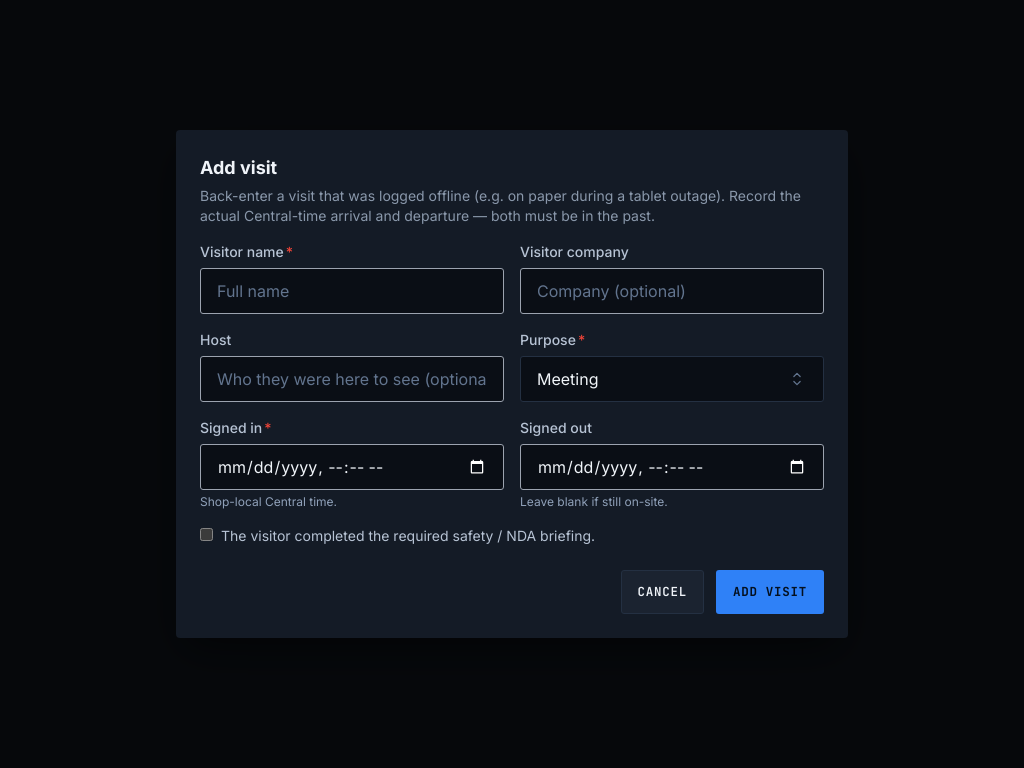
Test: VisitorManualEntryModal validation › blocks a future sign-in time client-side
In the field with placeholder "Full name": (352, 291) [200, 268, 504, 314], type "Future Person"
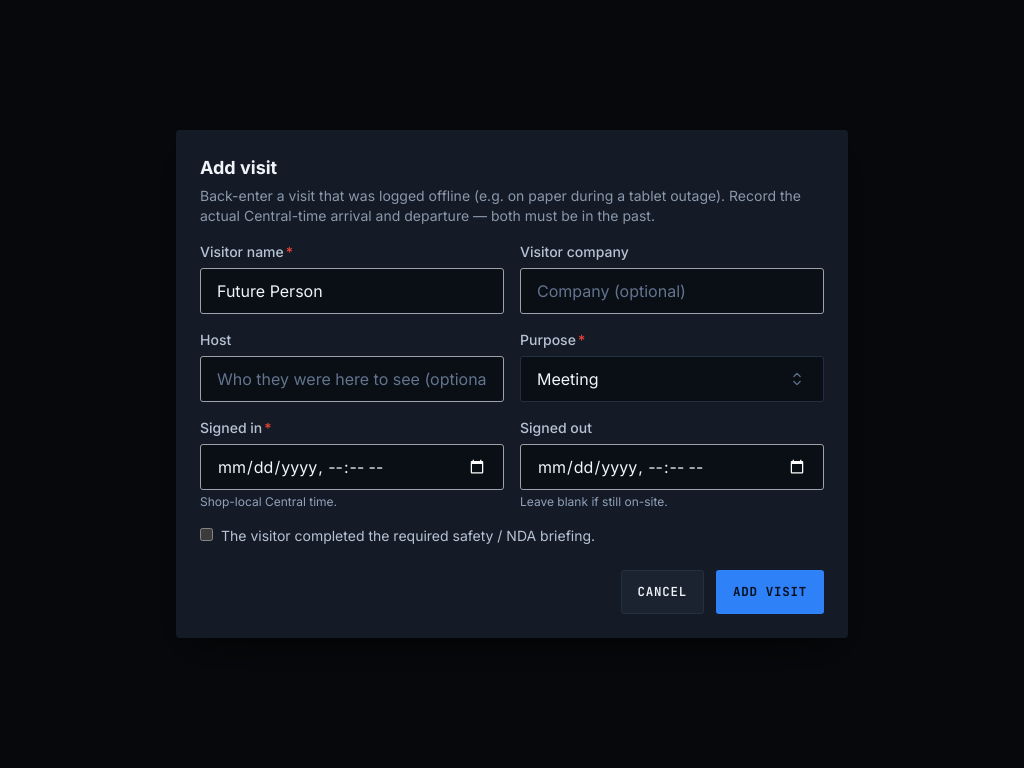
In the field named "signed_in_at": (352, 467) [200, 444, 504, 490], type "2999-01-01T09:00"
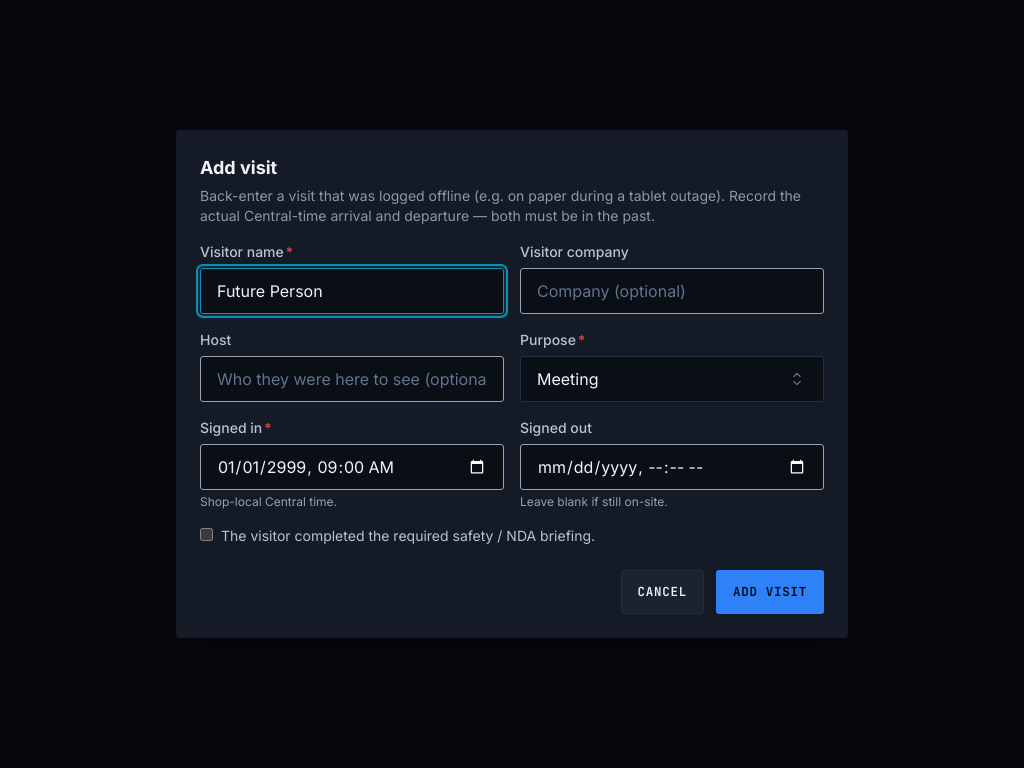
Click the checkbox: (206, 534) [200, 528, 213, 541]
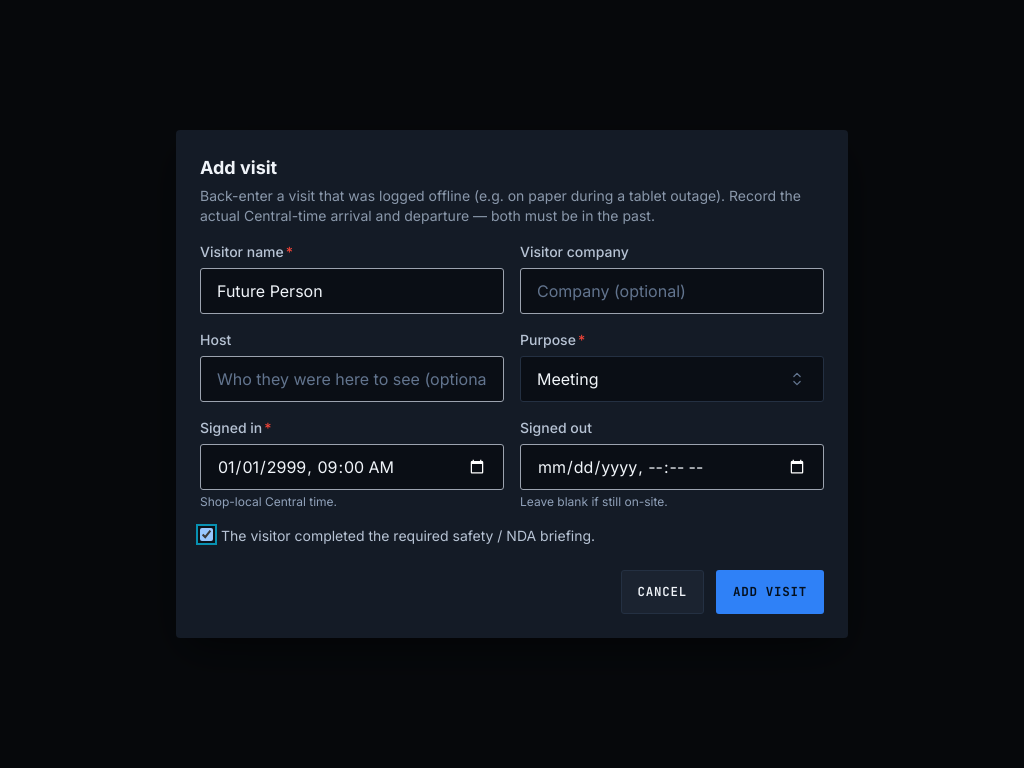
Click the button "Add visit": (770, 592) [716, 570, 824, 614]
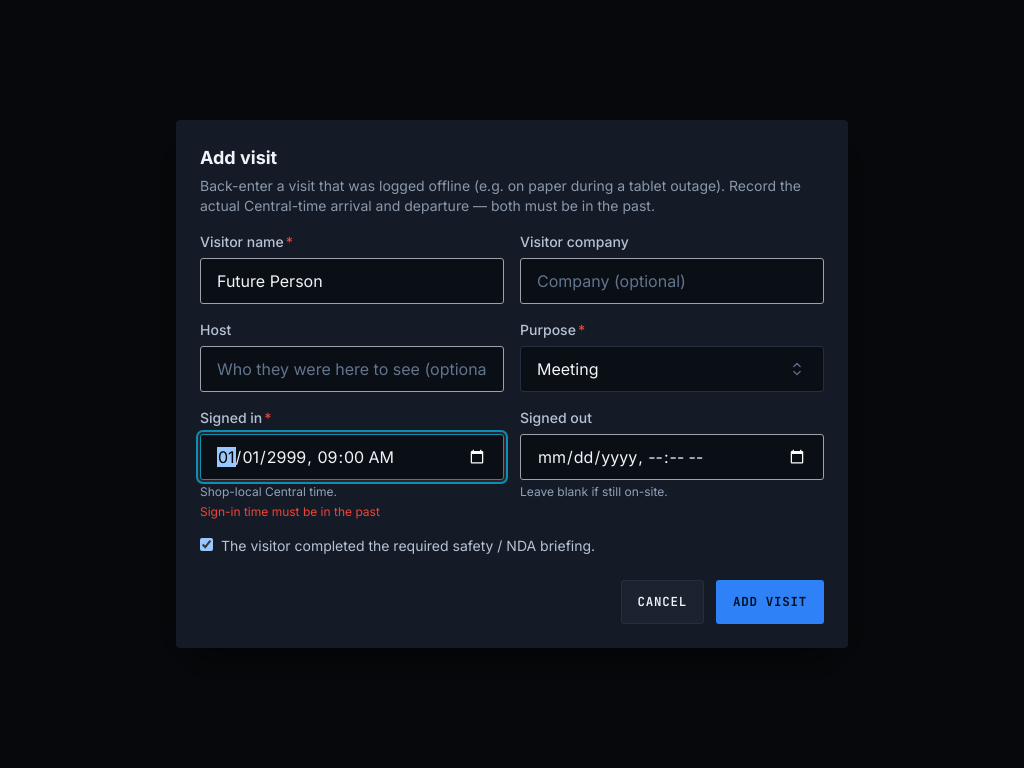
expect the text "Sign-in time must be in the past" is shown: met, box [200, 504, 380, 519]
